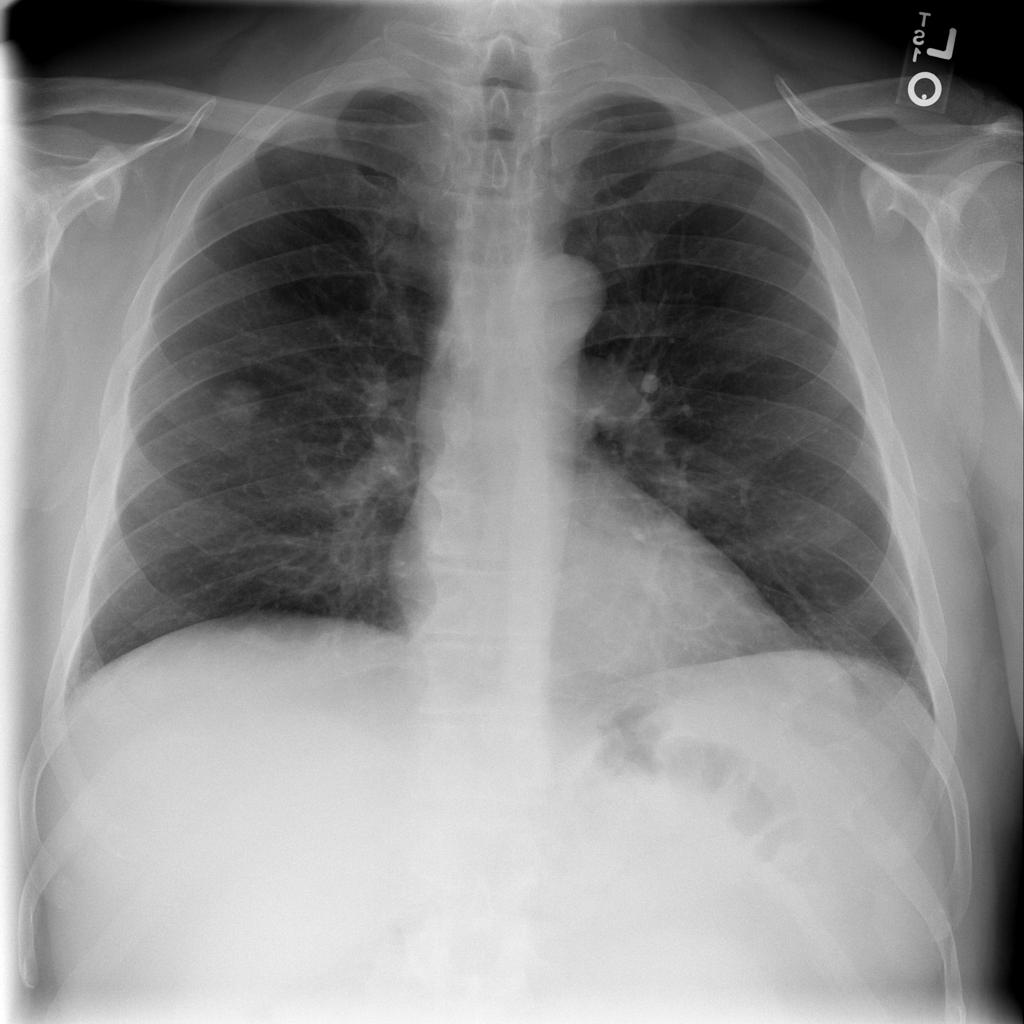nodule: (196, 369, 277, 437)
